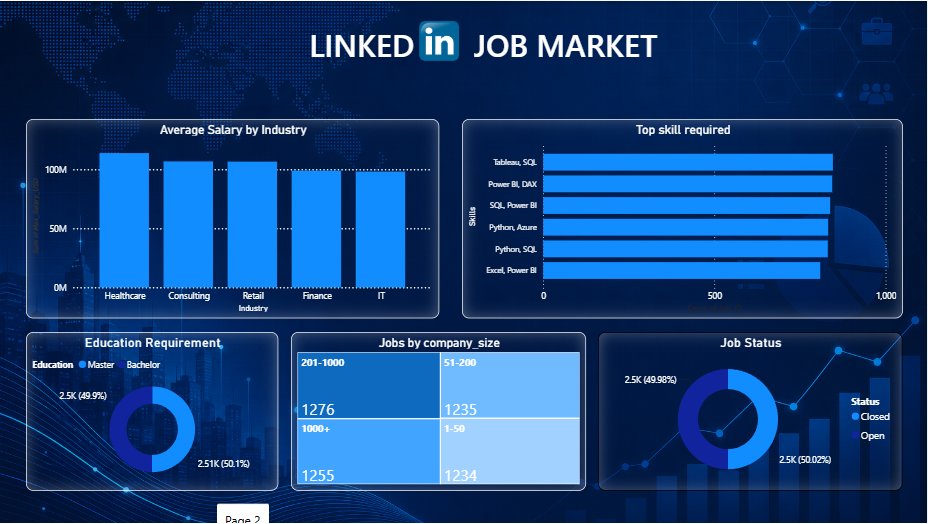

What the dashboard file says about the page in this screenshot:
{"tool":"powerbi","page":{"name":"Page 2","canvas":[1280,720],"ordinal":1},"visuals":[{"type":"clusteredColumnChart","title":"Average Salary by Industry","fields":{"Category":["LinkedIn Jobs 2026.Industry"],"Y":["Sum(LinkedIn Jobs 2026.Max_Salary_USD)"]},"box":[35.8,162.4,569.8,275.3],"z":0},{"type":"donutChart","title":"Education Requirement","fields":{"Y":["CountNonNull(LinkedIn Jobs 2026.Job_ID)"],"Category":["LinkedIn Jobs 2026.Education"]},"box":[468,447.3,298.7,227.1],"z":1000},{"type":"clusteredBarChart","title":"Top skill required","fields":{"Category":["LinkedIn Jobs 2026.Skills"],"Y":["CountNonNull(LinkedIn Jobs 2026.Job_ID)"]},"box":[637.2,162.4,608.3,275.3],"z":2000},{"type":"treemap","title":"Jobs by company_size","fields":{"Values":["LinkedIn Jobs 2026.Total Jobs"],"Group":["LinkedIn Jobs 2026.Company_Size"]},"box":[35.8,455.6,407.4,218.8],"z":2001}]}

Visuals, with their boxes in screenshot pixels (x1, y1, x2, y2), scaled from the page's 1280x720 canvas onto the 928x524 screenshot:
"Average Salary by Industry" clusteredColumnChart: box=[26, 118, 439, 319]
"Education Requirement" donutChart: box=[339, 326, 556, 491]
"Top skill required" clusteredBarChart: box=[462, 118, 903, 319]
"Jobs by company_size" treemap: box=[26, 332, 321, 491]
